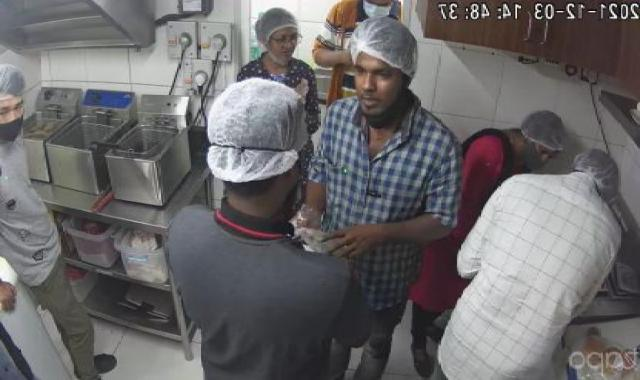hairnet: (193, 79, 321, 176), (342, 16, 434, 83), (500, 107, 580, 156), (566, 144, 629, 202), (235, 7, 313, 48), (0, 64, 39, 112)
